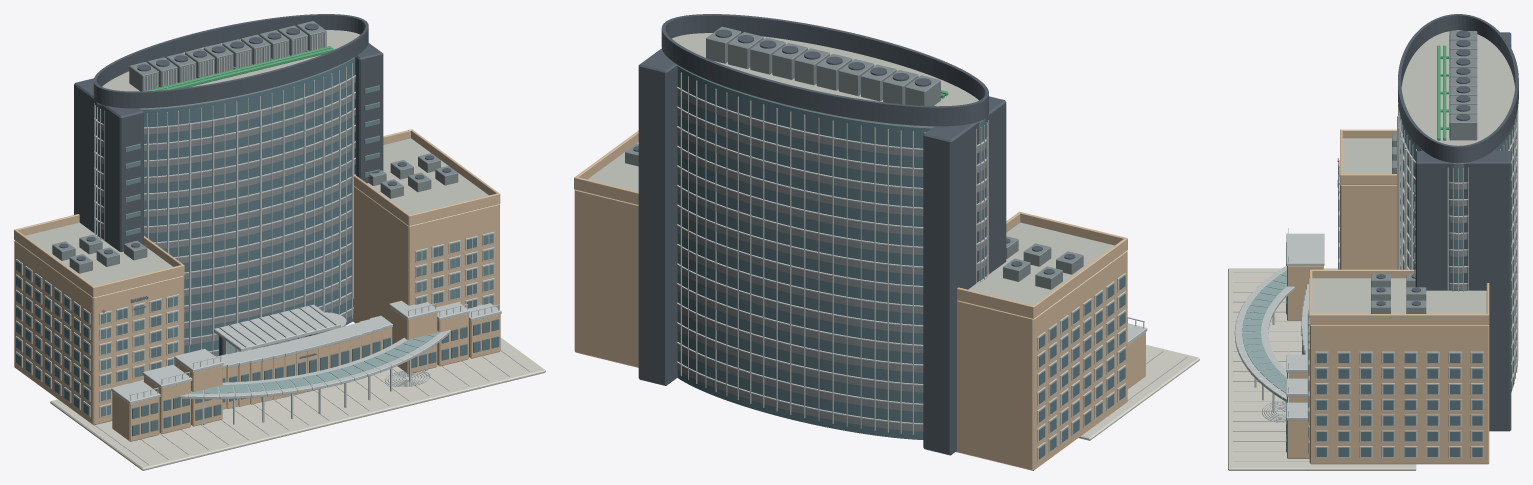
Rendered from ntucc-blender-v07.glb.
The picture shows the model from 3 angles, left to right: view 1: azimuth 30°, elevation 25°; view 2: azimuth 150°, elevation 25°; view 3: azimuth 270°, elevation 25°; orthographic projection. The views are drawn at different scales.
Parts seen in each view (by area): view 1: v06-main-curved-tower, v06-entry-plaza, v06-clinical-wing-1, v06-clinical-wing--1, v06-continuous-curved-roof-crown, v06-service-core--1, v06-service-core-1, v06-wing-roof-1, v06-wing-roof--1, v06-main-entry-roof, v06-roof-deck, v07-terraced-clinic-1-0 (+39 smaller); view 2: v06-main-curved-tower, v06-clinical-wing--1, v06-service-core--1, v06-continuous-curved-roof-crown, v06-service-core-1, v06-clinical-wing-1, v06-wing-roof--1, v06-roof-deck, v06-entry-plaza, v06-floor-spandrel-10, v06-floor-spandrel-13, v06-floor-spandrel-12 (+29 smaller); view 3: v06-clinical-wing-1, v06-service-core-1, v06-entry-plaza, v06-roof-deck, v06-clinical-wing--1, v06-continuous-curved-roof-crown, v06-wing-roof-1, v06-main-curved-tower, v06-wing-parapet.007, v06-wing-roof--1, v07-terraced-clinic--1-0, v06-wing-parapet.006 (+15 smaller).
Part boxes in pixels (<box>): v06-main-curved-tower: <box>96,57,355,353</box>; v06-entry-plaza: <box>50,337,545,470</box>; v06-clinical-wing-1: <box>353,186,499,323</box>; v06-clinical-wing--1: <box>14,240,184,425</box>; v06-continuous-curved-roof-crown: <box>93,14,368,108</box>; v06-service-core--1: <box>74,78,143,251</box>; v06-service-core-1: <box>355,43,383,183</box>; v06-wing-roof-1: <box>367,138,488,214</box>; v06-wing-roof--1: <box>25,222,172,286</box>; v06-main-entry-roof: <box>214,304,340,351</box>; v06-roof-deck: <box>99,30,359,109</box>; v07-terraced-clinic-1-0: <box>390,307,437,373</box>; v06-main-curved-tower: <box>677,65,985,439</box>; v06-clinical-wing--1: <box>956,251,1127,470</box>; v06-service-core--1: <box>923,96,1006,455</box>; v06-continuous-curved-roof-crown: <box>661,14,988,126</box>; v06-service-core-1: <box>638,48,678,385</box>; v06-clinical-wing-1: <box>574,189,638,367</box>; v06-wing-roof--1: <box>968,222,1114,305</box>; v06-roof-deck: <box>672,33,982,127</box>; v06-entry-plaza: <box>1078,344,1199,440</box>; v06-floor-spandrel-10: <box>677,167,986,235</box>; v06-floor-spandrel-13: <box>677,108,986,176</box>; v06-floor-spandrel-12: <box>677,128,986,196</box>; v06-clinical-wing-1: <box>1309,325,1489,464</box>; v06-service-core-1: <box>1415,151,1511,431</box>; v06-entry-plaza: <box>1228,268,1416,470</box>; v06-roof-deck: <box>1401,30,1514,163</box>; v06-clinical-wing--1: <box>1340,185,1396,269</box>; v06-continuous-curved-roof-crown: <box>1398,14,1518,163</box>; v06-wing-roof-1: <box>1312,278,1486,313</box>; v06-main-curved-tower: <box>1400,116,1516,391</box>; v06-wing-parapet.007: <box>1310,314,1489,324</box>; v06-wing-roof--1: <box>1342,138,1391,173</box>; v07-terraced-clinic--1-0: <box>1287,266,1323,320</box>; v06-wing-parapet.006: <box>1312,269,1415,278</box>.
Bounding box in the file's own units: 28.2 × 19.4 × 17.3.
